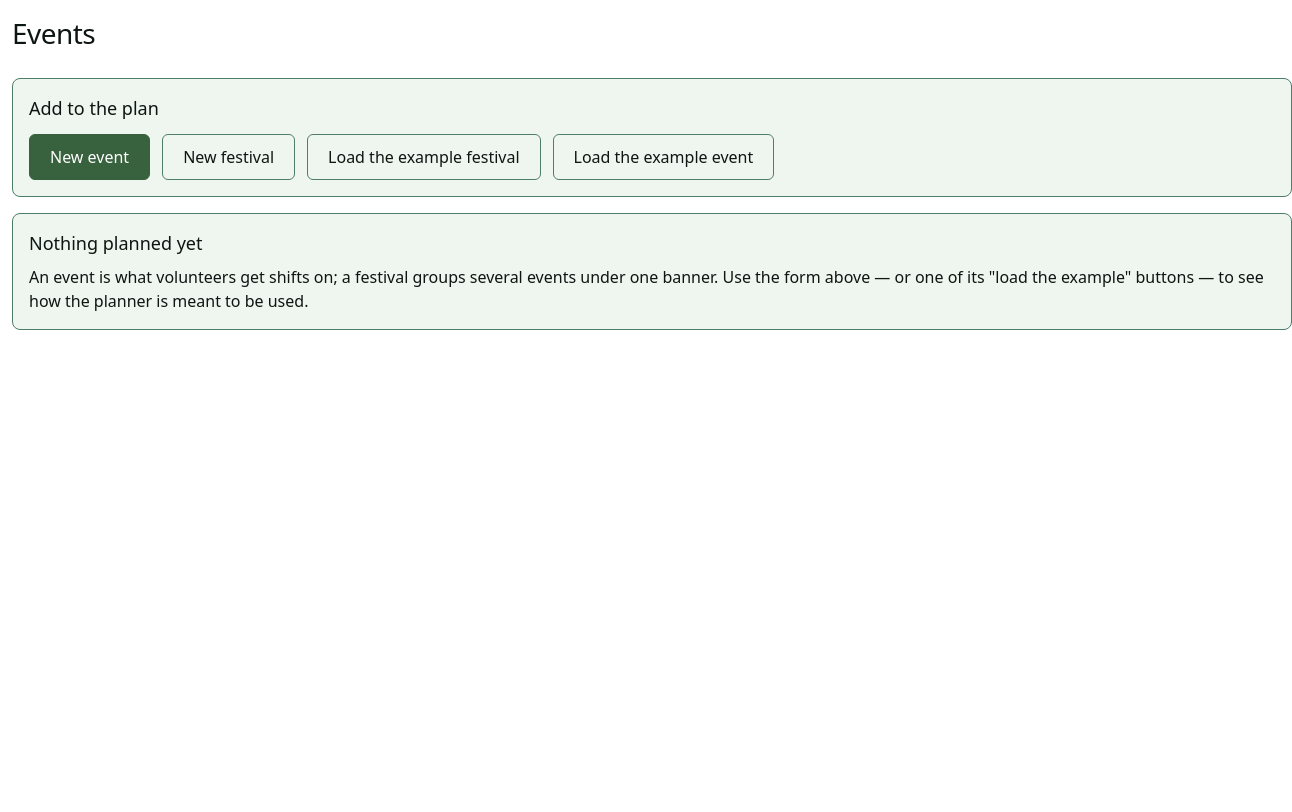
Scenario: EventsView › treats a 409 on the example as informational, not an error
Click the button "Load the example festival".
click(424, 157)  # box [307, 134, 541, 180]
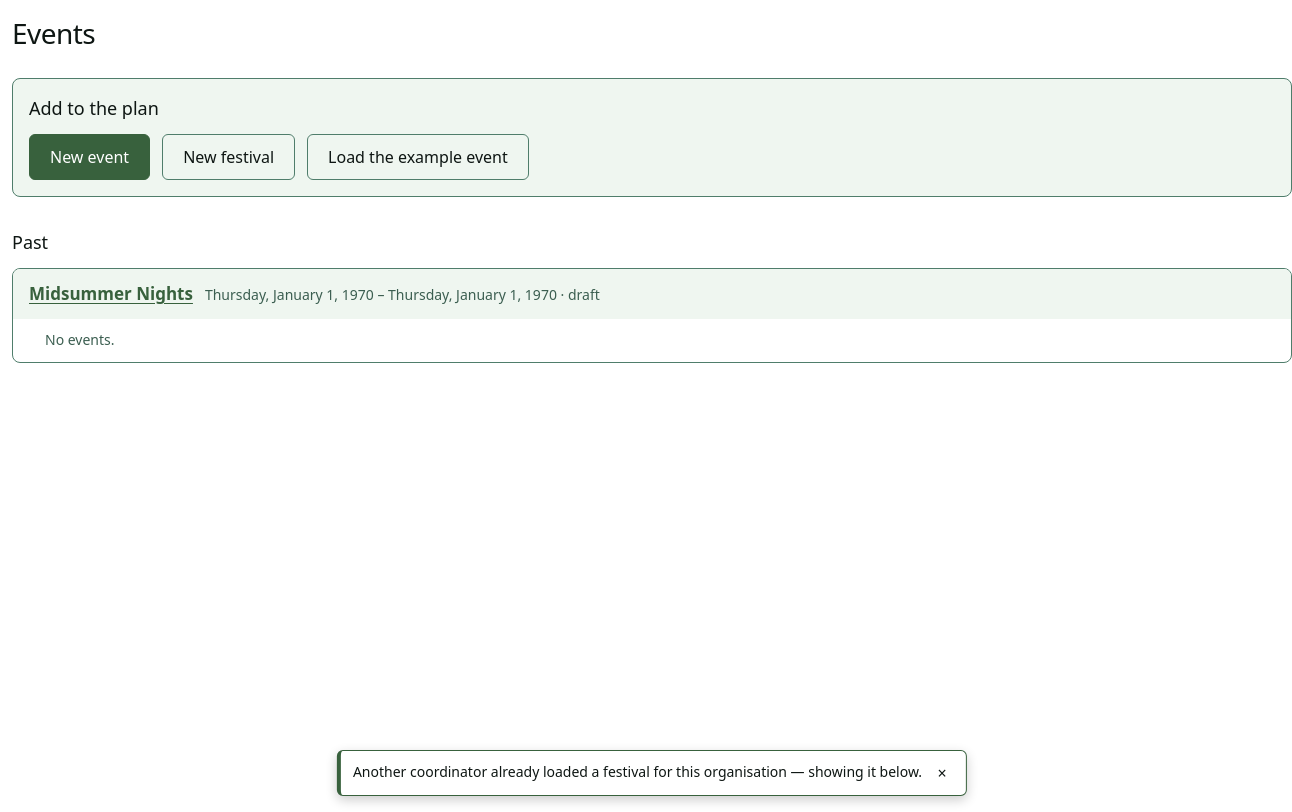
expect the message is shown: met, box [337, 750, 967, 796]
expect the message shows "Another coordinator already loaded a festival": met, box [353, 762, 922, 781]
